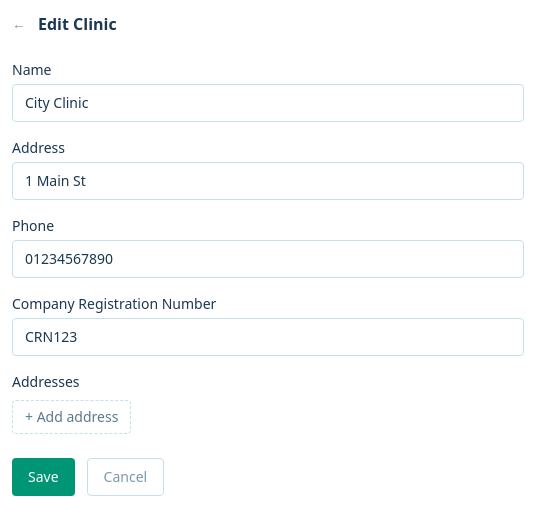
Scenario: ClinicEditClient — edit form › Save button is disabled when name is empty
Clear the field labelled "Name": (268, 103) [12,84,524,122]
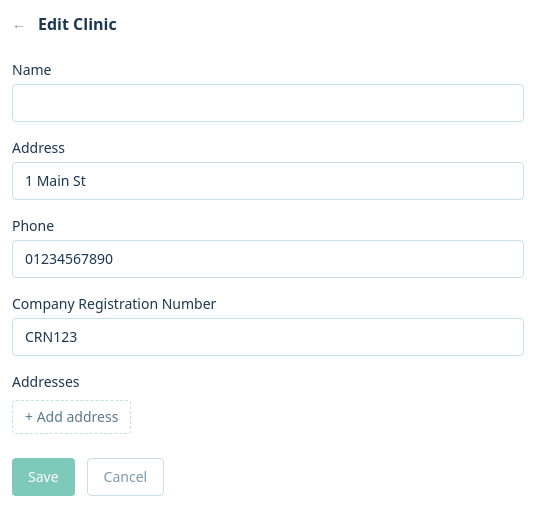
expect the button "Save" is disabled: met, box [12,458,75,496]
